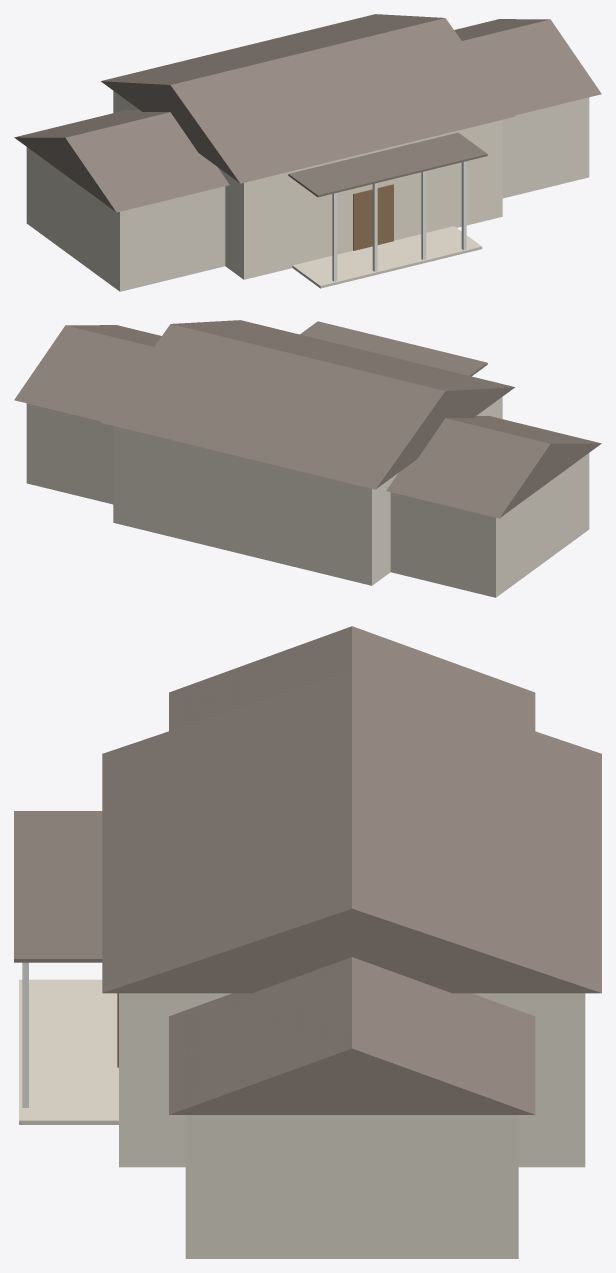
Rendered from clubhouse_large.glb.
3 renders of one model, top to bottom at view 1: azimuth 30°, elevation 25°; view 2: azimuth 150°, elevation 25°; view 3: azimuth 270°, elevation 25°, orthographic. The views are drawn at different scales.
Visible parts, largest first — view 1: ClubhouseLarge; view 2: ClubhouseLarge; view 3: ClubhouseLarge.
Boxes of the visible parts, x1,y1,x2,y2 form: ClubhouseLarge: [14, 14, 601, 291]; ClubhouseLarge: [14, 320, 601, 597]; ClubhouseLarge: [14, 626, 601, 1258].
Bounding box in the file's own units: 30 × 8.8 × 17.65.
